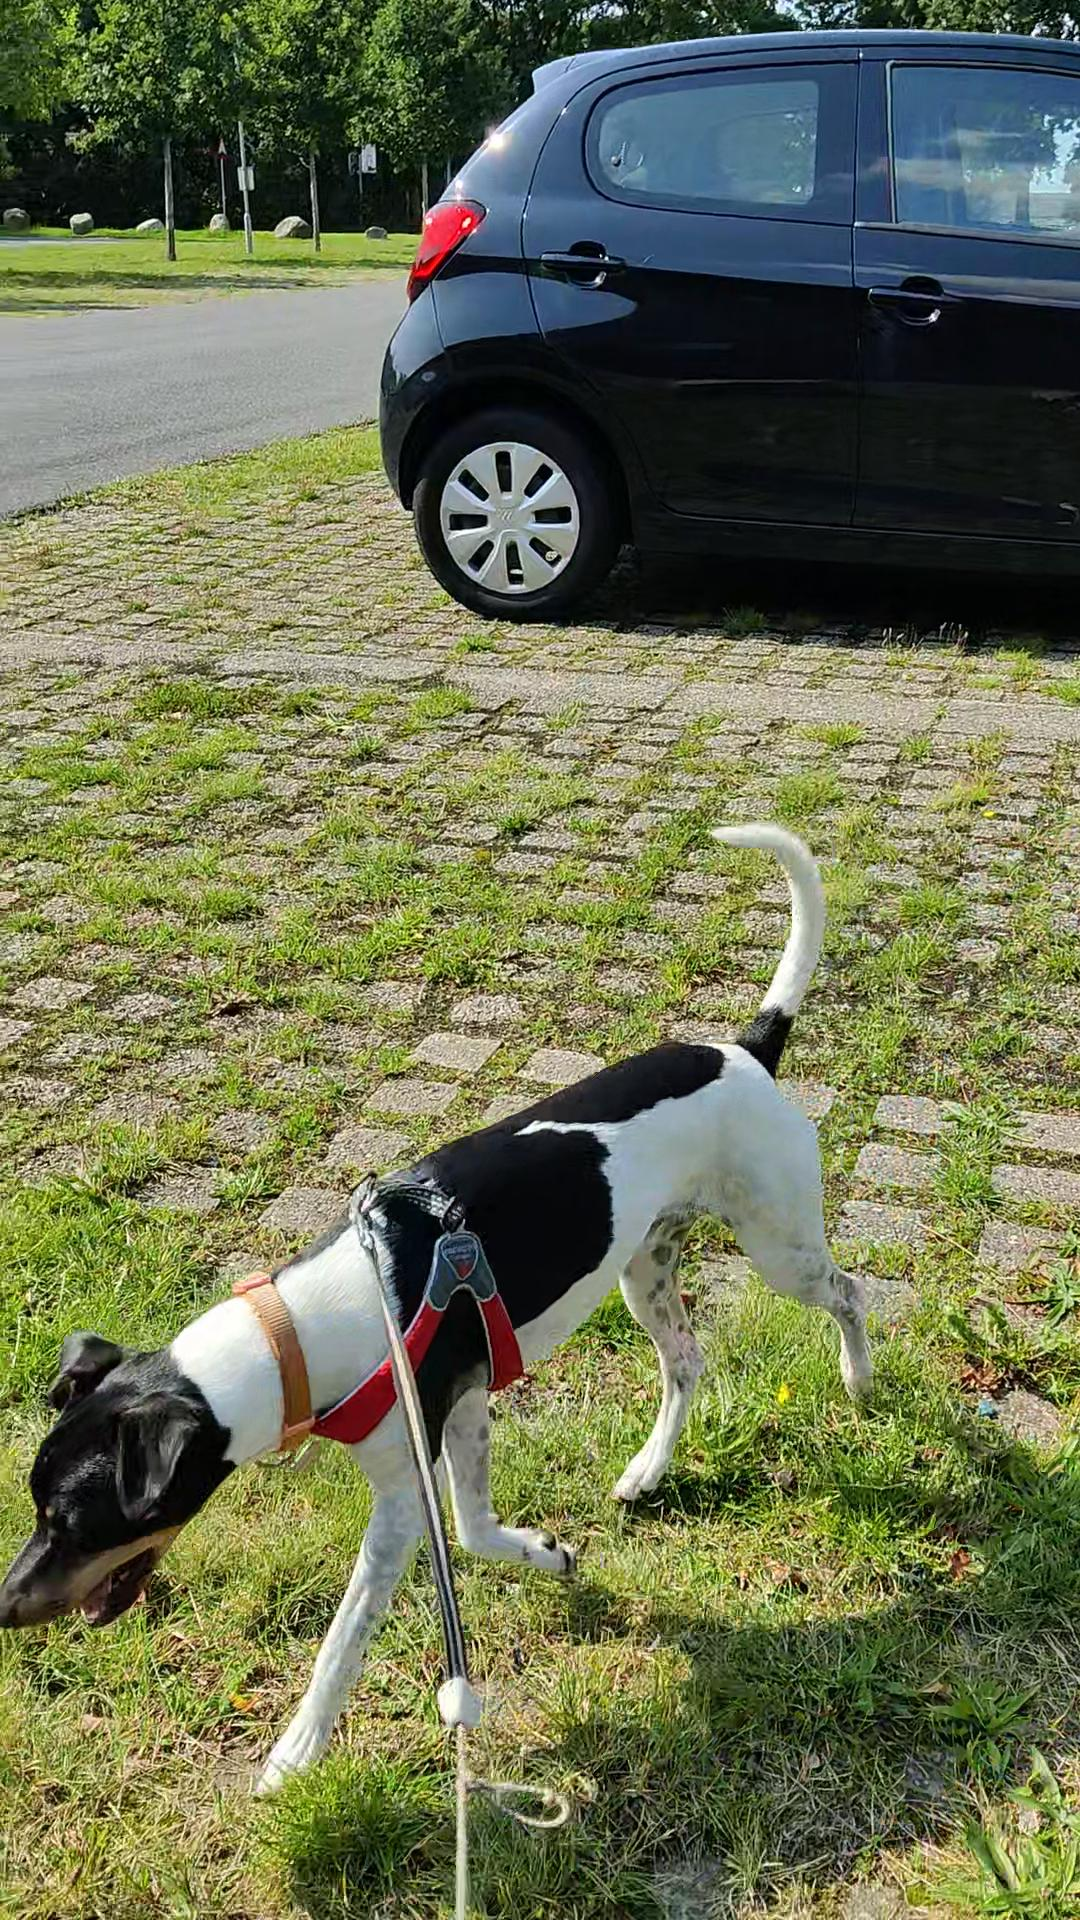Dog: (0, 820, 882, 1808)
